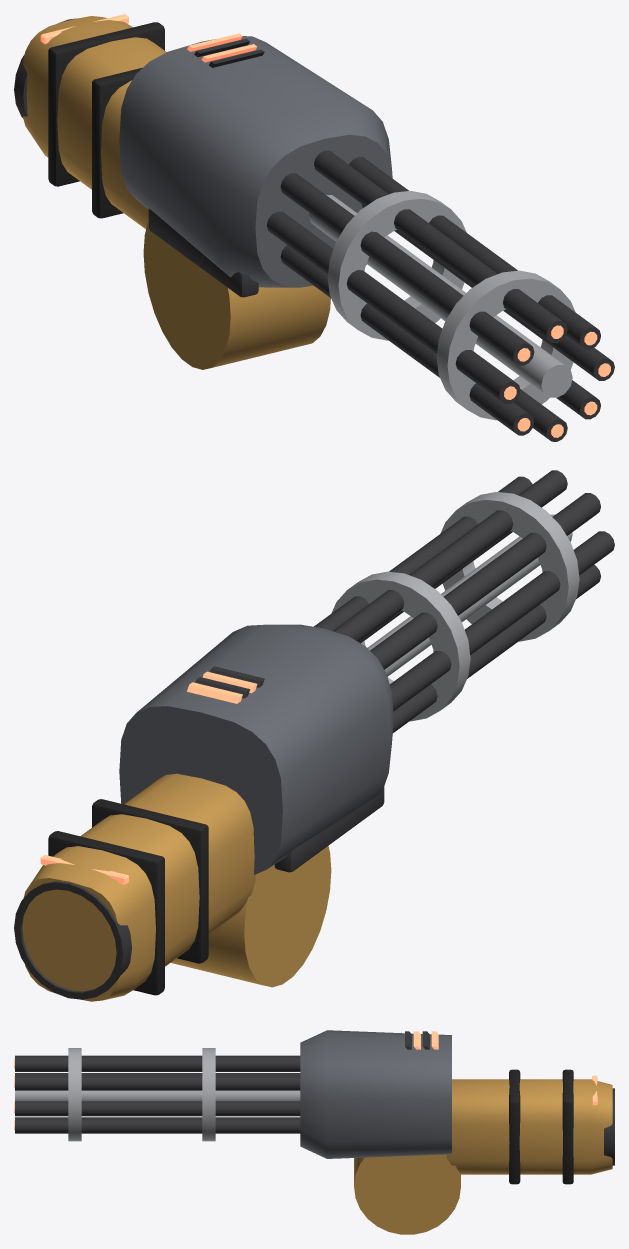
File: disruptor.glb
3 views of the same model, one above another, from view 1: azimuth 30°, elevation 25°; view 2: azimuth 150°, elevation 25°; view 3: azimuth 270°, elevation 25° (orthographic). The views are drawn at different scales.
Visible parts, largest first — view 1: Body; view 2: Body; view 3: Body.
Boxes of the visible parts, <box> form: Body: <box>14,14,614,441</box>; Body: <box>14,470,614,1001</box>; Body: <box>14,1030,614,1234</box>.
Bounding box in the file's own units: 0.28 × 0.4471 × 1.35.
